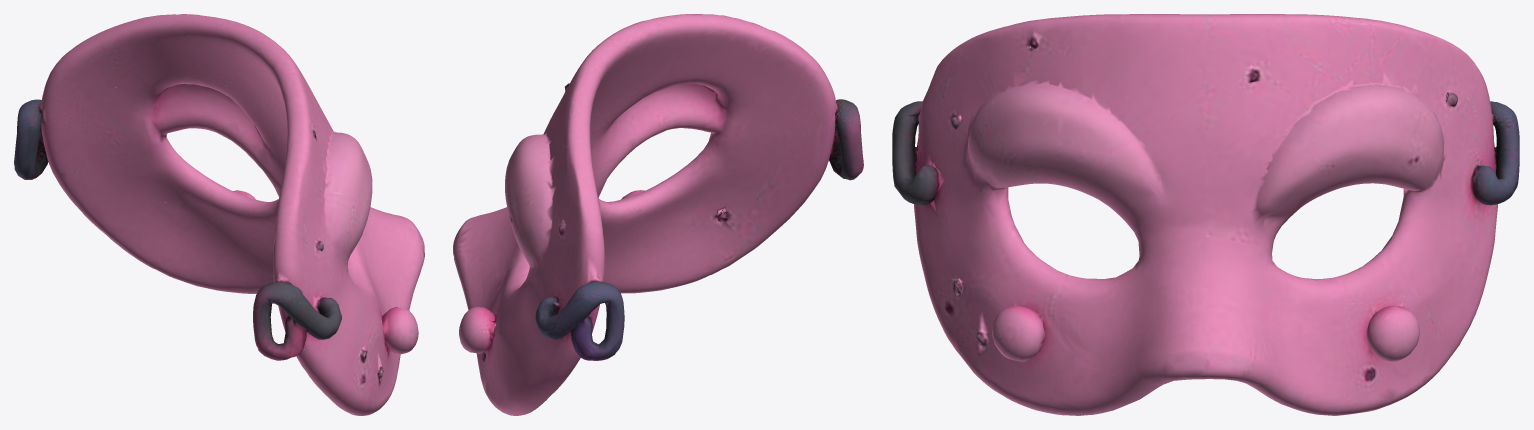
Rendered from acc_face_mask_01.glb.
3 views of the same model, side by side, from view 1: azimuth 30°, elevation 25°; view 2: azimuth 150°, elevation 25°; view 3: azimuth 270°, elevation 25° (orthographic). The views are drawn at different scales.
Parts seen in each view (by area): view 1: acc_face_mask_01; view 2: acc_face_mask_01; view 3: acc_face_mask_01.
Part boxes in pixels (x1=…): acc_face_mask_01: x1=14, y1=14, x2=424, y2=415; acc_face_mask_01: x1=453, y1=14, x2=863, y2=415; acc_face_mask_01: x1=892, y1=14, x2=1519, y2=415.
Bounding box in the file's own units: 0.1305 × 0.14 × 0.2158.
Materials: 1 (1 with a texture image).
